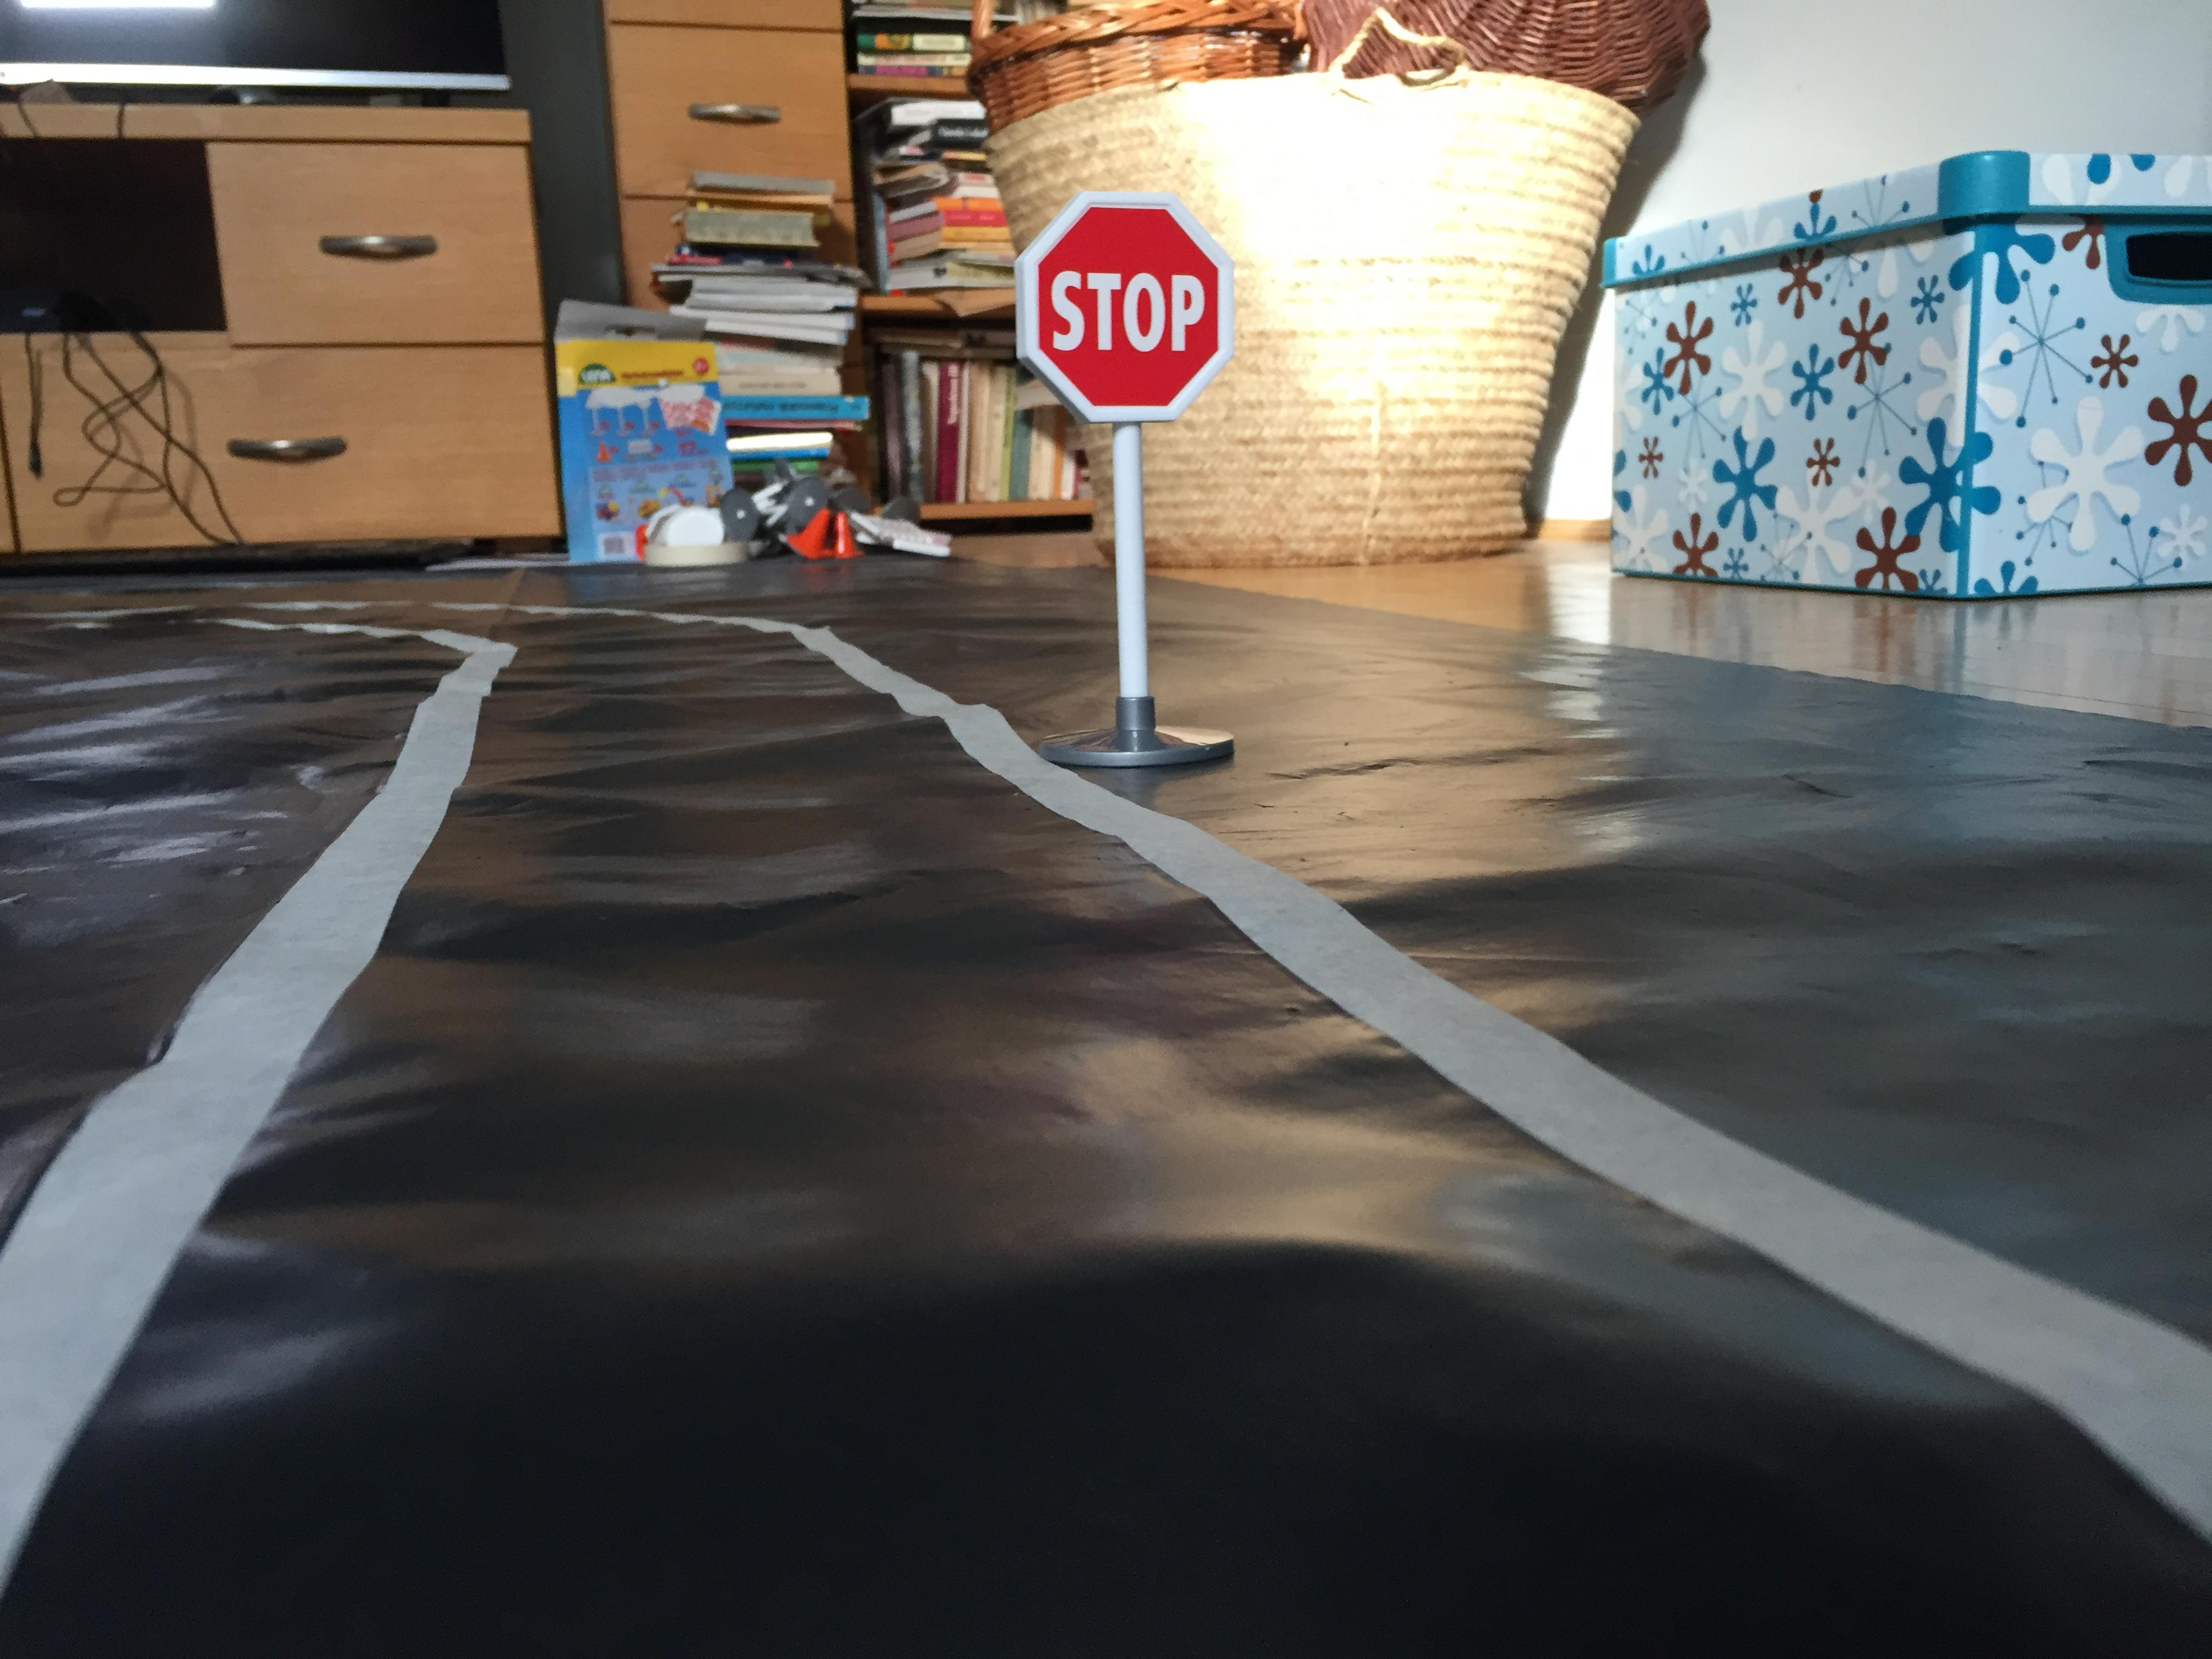stop: (1000, 186, 1242, 437)
